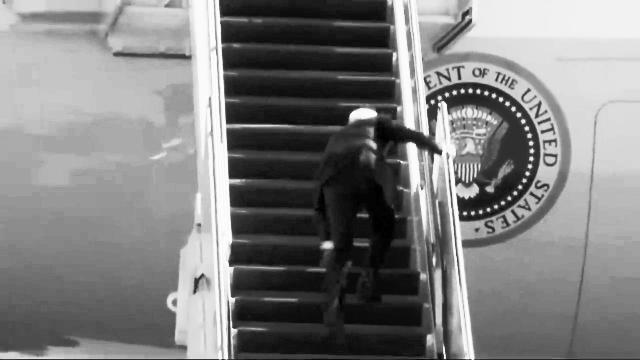jatuh: (302, 100, 458, 356)
